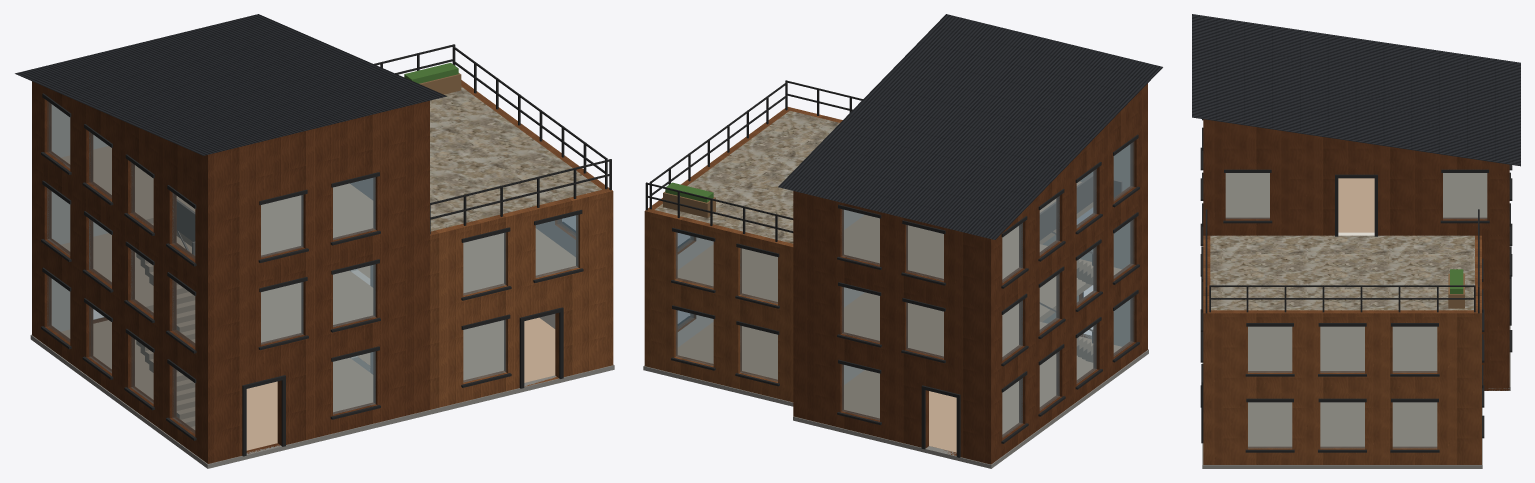
Rendered from rw-split-modern.towns-v1.lod0.glb.
3 views of the same model, side by side, from view 1: azimuth 30°, elevation 25°; view 2: azimuth 150°, elevation 25°; view 3: azimuth 270°, elevation 25° (orthographic). The views are drawn at different scales.
Parts seen in each view (by area): view 1: rw-split-modern; view 2: rw-split-modern; view 3: rw-split-modern.
Boxes of the visible parts, box(x1,y1,x2,y2) form: rw-split-modern: box(15, 14, 614, 468); rw-split-modern: box(643, 14, 1162, 468); rw-split-modern: box(1192, 14, 1520, 468).
Size of the model in its own units: 15.09 by 11.01 by 11.8.
Materials: 7 (3 with a texture image).
